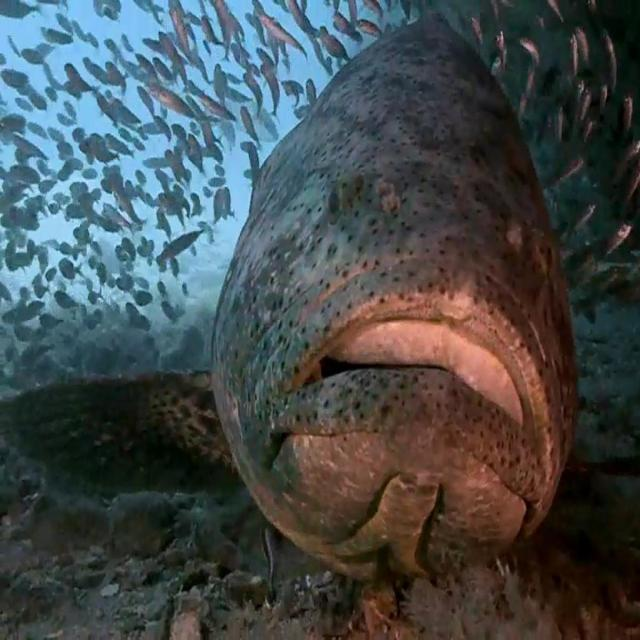grouper: (168, 15, 610, 617)
